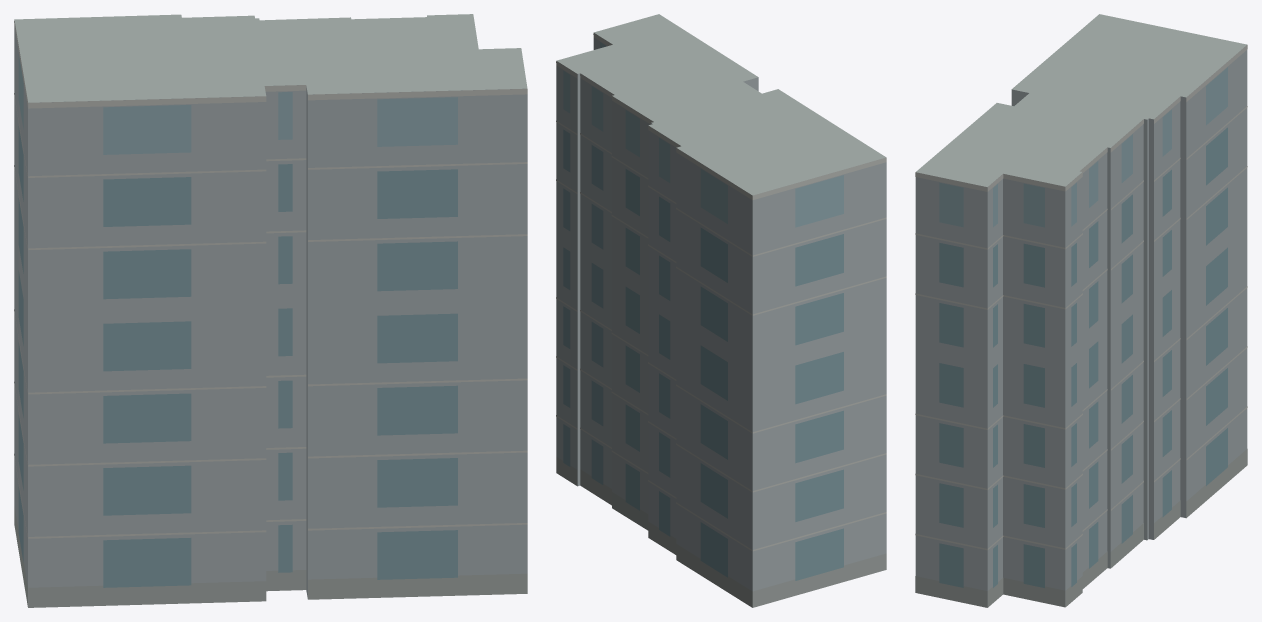
Rendered from survey-upis-32966108.glb.
3 views of the same model, side by side, from view 1: azimuth 30°, elevation 25°; view 2: azimuth 150°, elevation 25°; view 3: azimuth 270°, elevation 25° (orthographic). The views are drawn at different scales.
Visible parts, largest first — view 1: survey-upis-32966108.tmp; view 2: survey-upis-32966108.tmp; view 3: survey-upis-32966108.tmp.
Part boxes in pixels (bbox=[...]): survey-upis-32966108.tmp: bbox=[14, 14, 527, 607]; survey-upis-32966108.tmp: bbox=[556, 14, 886, 607]; survey-upis-32966108.tmp: bbox=[915, 14, 1247, 607].
Bounding box in the file's own units: 18.87 × 21.35 × 15.29.
